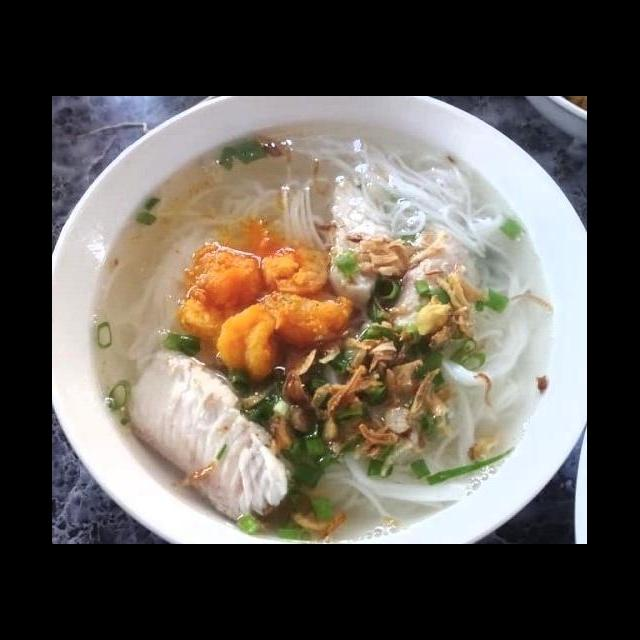bun: (193, 134, 542, 254), (302, 446, 480, 527), (443, 342, 548, 478)
bun ca: (70, 123, 582, 527)
ca: (118, 339, 296, 525)
tom: (212, 289, 360, 387), (175, 239, 276, 344), (254, 239, 338, 298)
